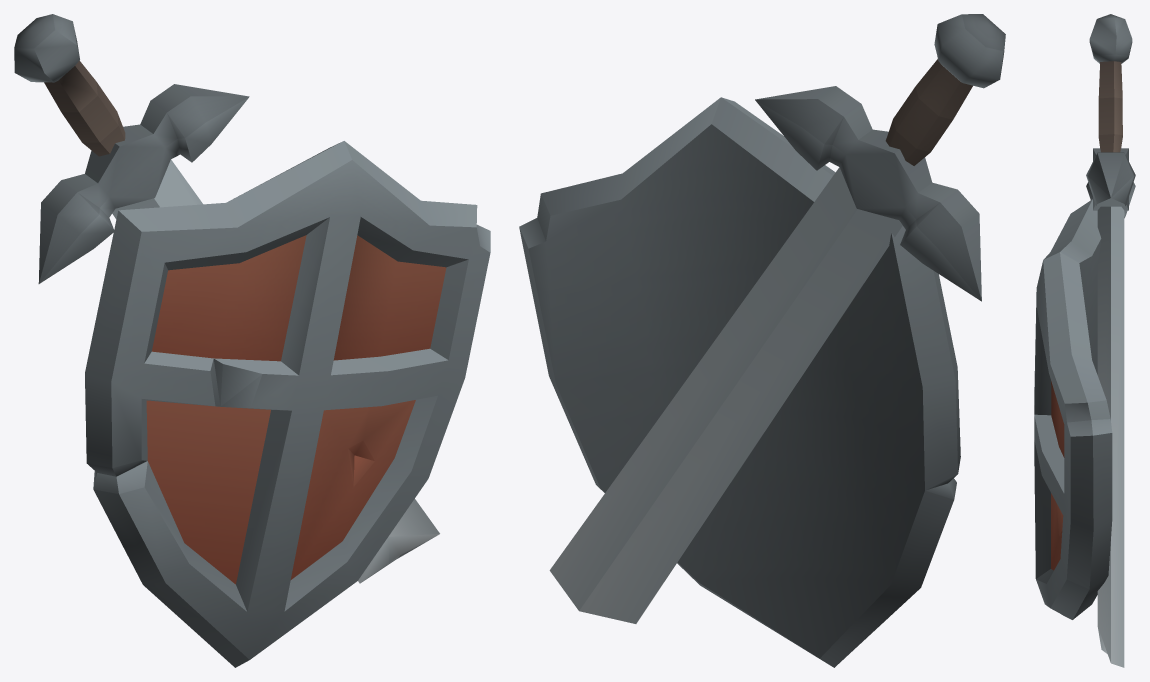
File: dg_sword_shield_broken.glb
The picture shows the model from 3 angles, left to right: view 1: azimuth 30°, elevation 25°; view 2: azimuth 150°, elevation 25°; view 3: azimuth 270°, elevation 25°; orthographic projection. The views are drawn at different scales.
Visible parts, largest first — view 1: sword_shield_broken; view 2: sword_shield_broken; view 3: sword_shield_broken.
Boxes of the visible parts, x1,y1,x2,y2 form: sword_shield_broken: (14,14,490,667); sword_shield_broken: (519,14,1005,667); sword_shield_broken: (1034,14,1135,667).
Bounding box in the file's own units: 1.43 × 1.96 × 0.3357.
1 material, 1 textured.
